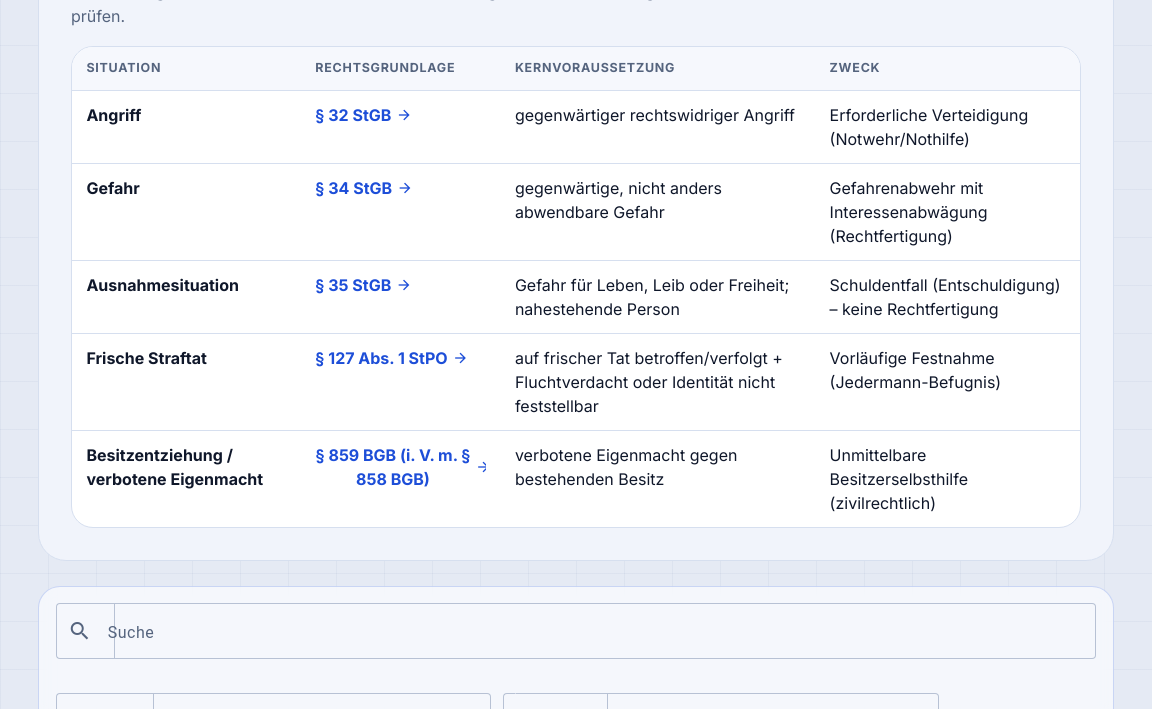
Test: JedermannsrechteComponent › öffnet über die Matrix die zugehörige Lernkarte
The image size is (1152, 709).
(page scrolled)
Click the button with class "norm-link" showing "§ 127 Abs. 1 StPO" at (392, 358), box [315,346,468,370]
(page scrolled)
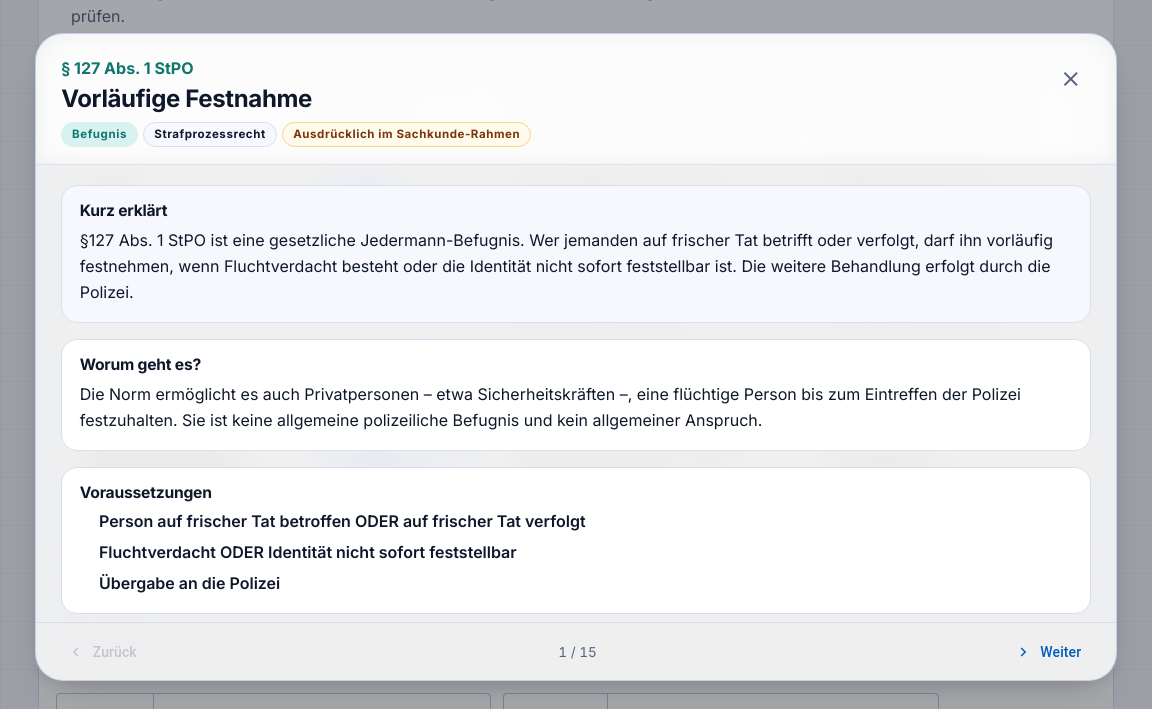
Check: the element that starts with "§ 127 Abs. 1 StPO" is shown
Check: the element that starts with "§ 127 Abs. 1 StPO" shows "Vorläufige Festnahme", box [61,84,312,113]
